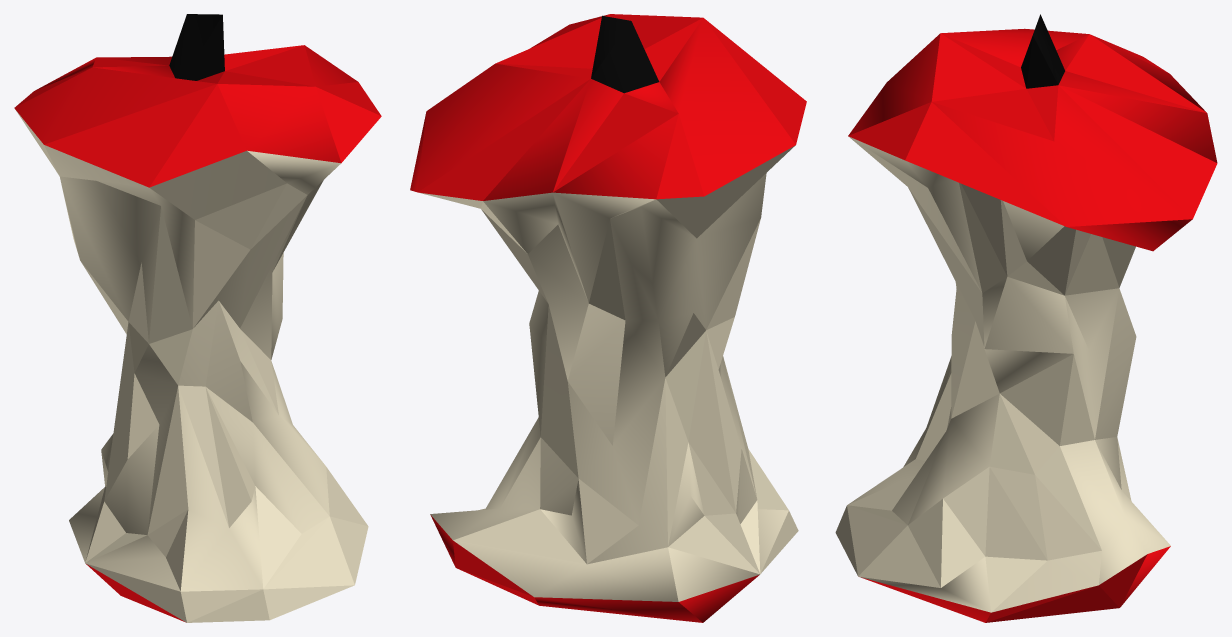
File: apple.fbx
3 renders of one model, left to right at view 1: azimuth 30°, elevation 25°; view 2: azimuth 150°, elevation 25°; view 3: azimuth 270°, elevation 25°, orthographic. The views are drawn at different scales.
Parts seen in each view (by area): view 1: applee.002; view 2: applee.002; view 3: applee.002.
Part boxes in pixels (x1=…): applee.002: x1=14, y1=14, x2=381, y2=622; applee.002: x1=410, y1=14, x2=806, y2=622; applee.002: x1=835, y1=14, x2=1217, y2=622.
Size of the model in its own units: 709 by 1157 by 698.
